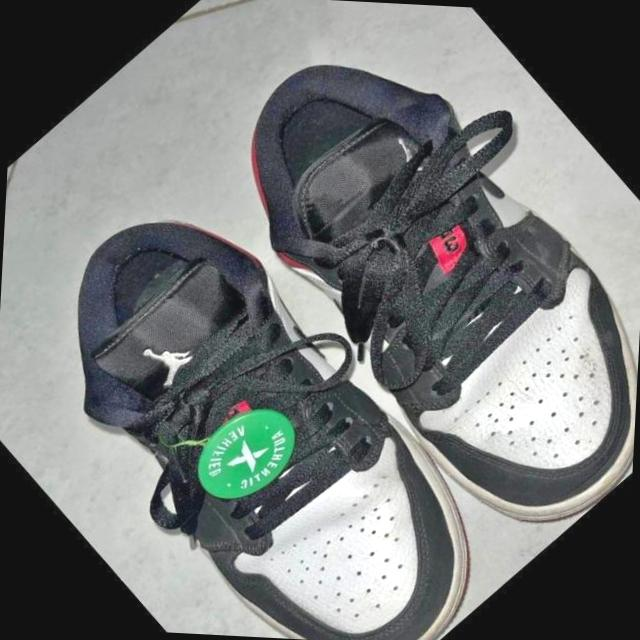nike_original_jordan: (151, 0, 640, 580), (0, 156, 554, 640)
